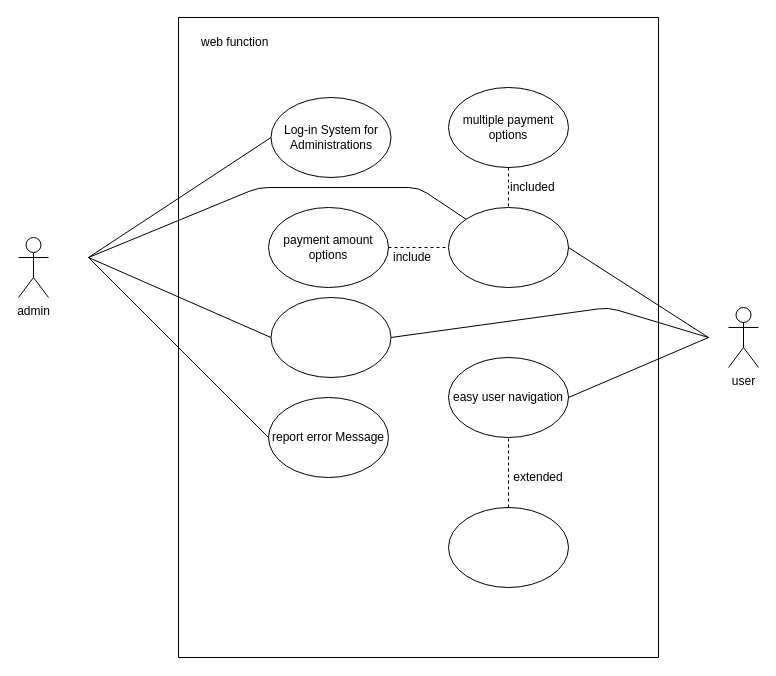
The diagram is 776 pixels wide and 676 high, and some of its shapes have lost their labels. Here are the shapes that lost their labels. From the top down, the centre of each, then its label:
point 508,247: payment system
point 330,337: pircture gallery
point 508,547: quick search function
